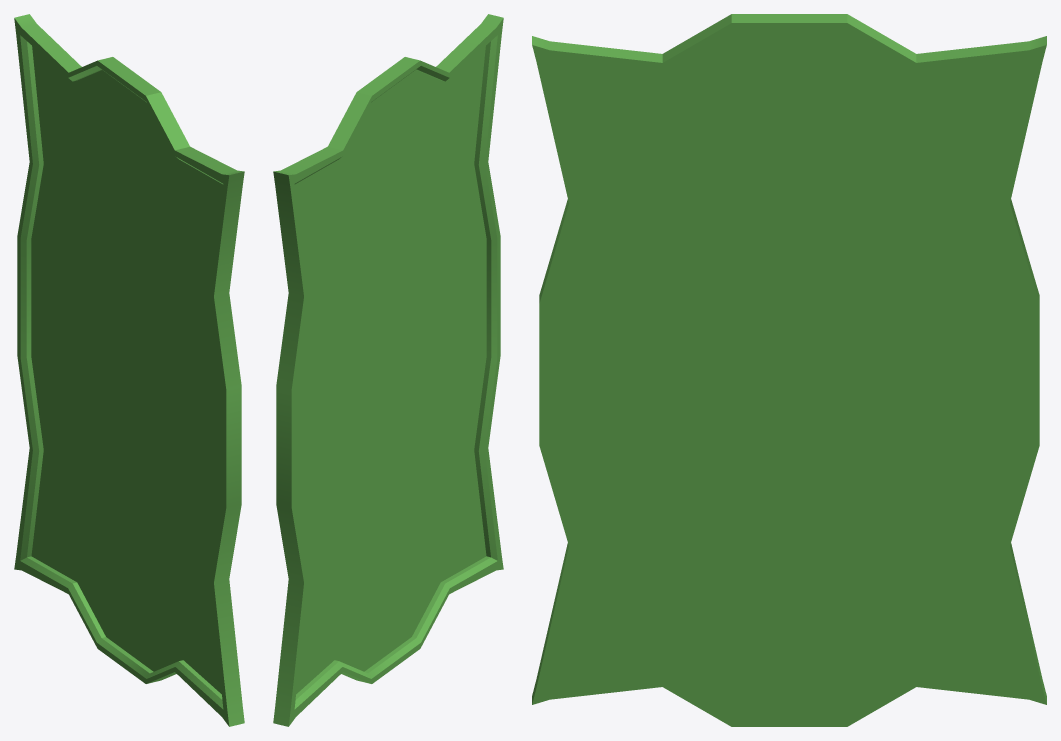
Rendered from Mirror.fbx.
The picture shows the model from 3 angles, left to right: view 1: azimuth 30°, elevation 25°; view 2: azimuth 150°, elevation 25°; view 3: azimuth 270°, elevation 25°; orthographic projection. The views are drawn at different scales.
Visible parts, largest first — view 1: Mirror; view 2: Mirror; view 3: Mirror.
Part boxes in pixels (bbox=[...]): Mirror: bbox=[14, 14, 244, 726]; Mirror: bbox=[273, 14, 503, 726]; Mirror: bbox=[532, 14, 1046, 726].
Bounding box in the file's own units: 2.9 × 106 × 70.
